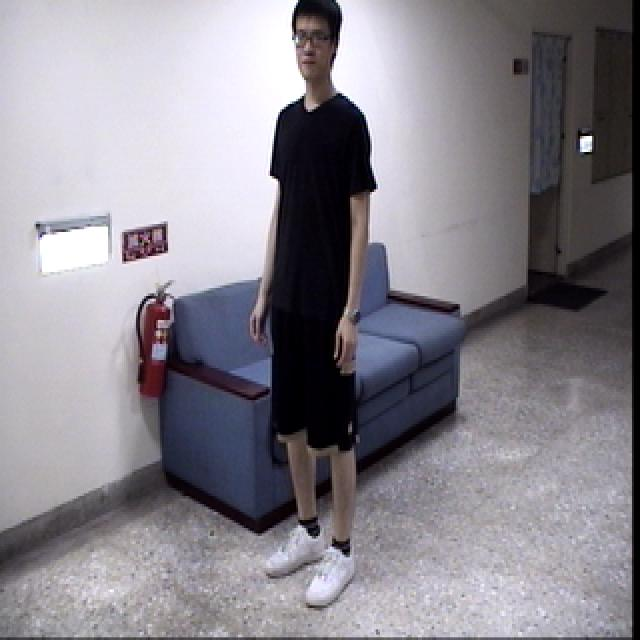stand: (222, 0, 388, 611)
